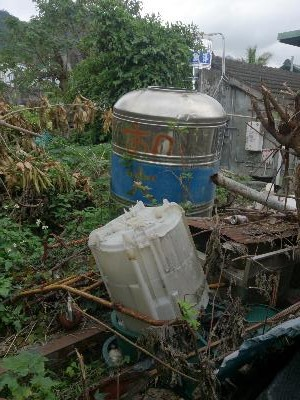bucket: (89, 202, 208, 329)
water_tower: (108, 84, 227, 223)
